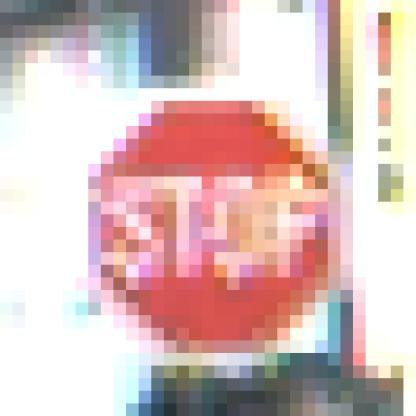Stop: (80, 92, 340, 361)
